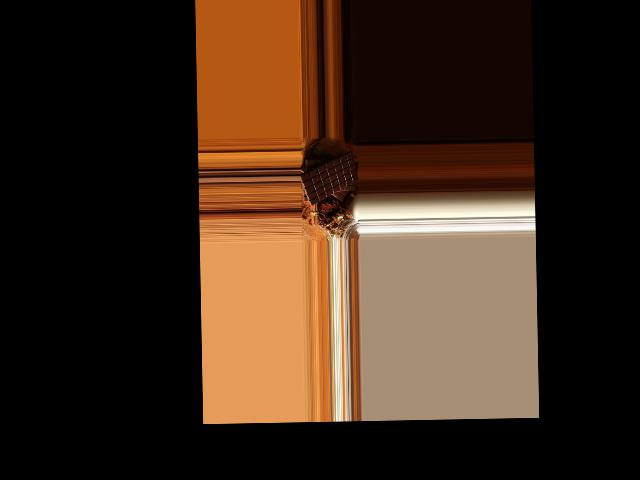chocolate: (299, 150, 356, 208)
